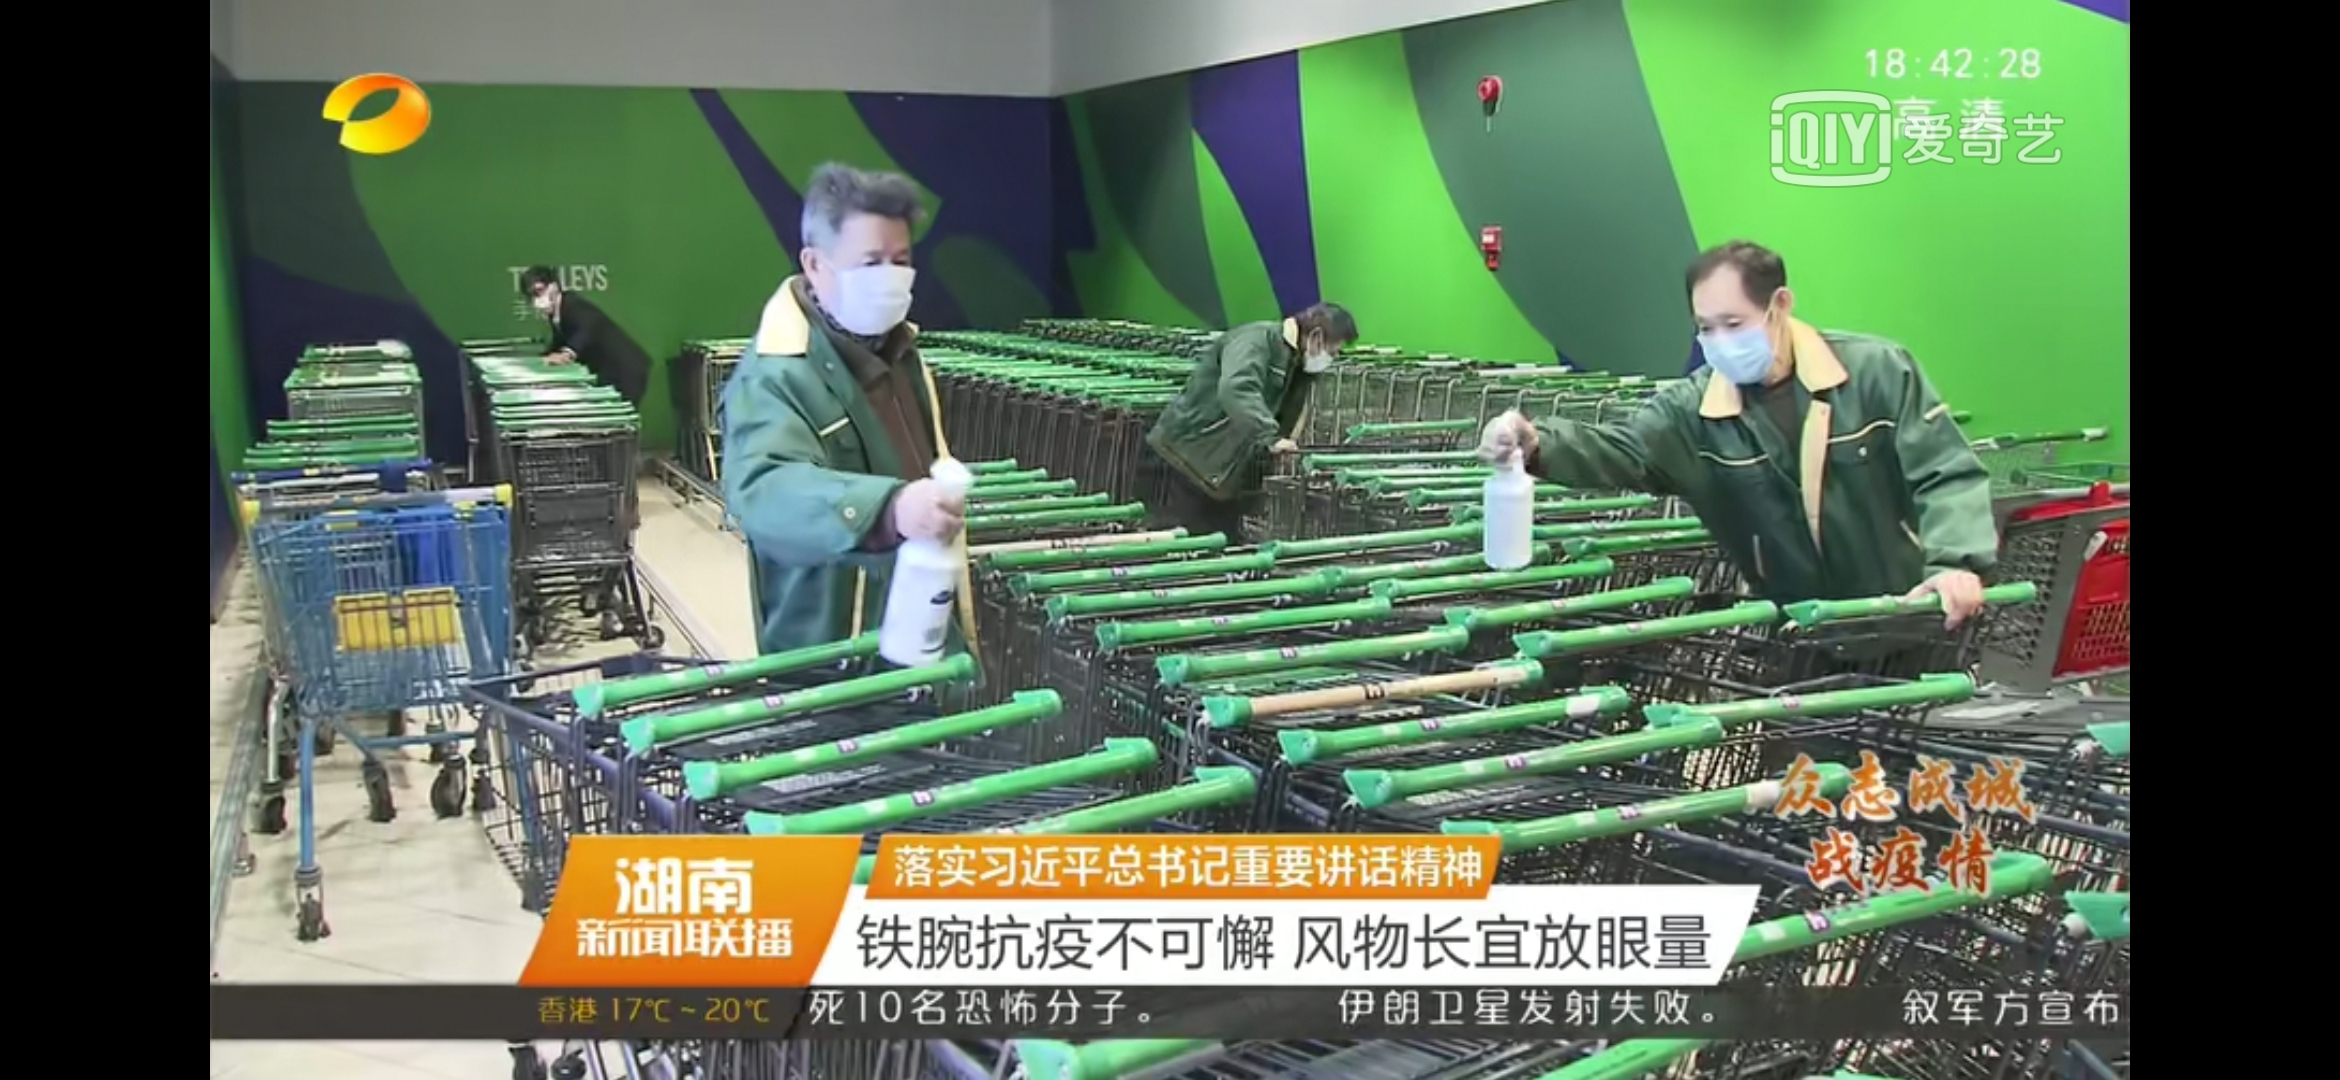correctlyWear: (798, 222, 927, 355), (1697, 292, 1800, 389), (1301, 330, 1354, 379), (522, 283, 561, 313)
